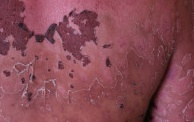SJS-TEN: (0, 1, 193, 121)
